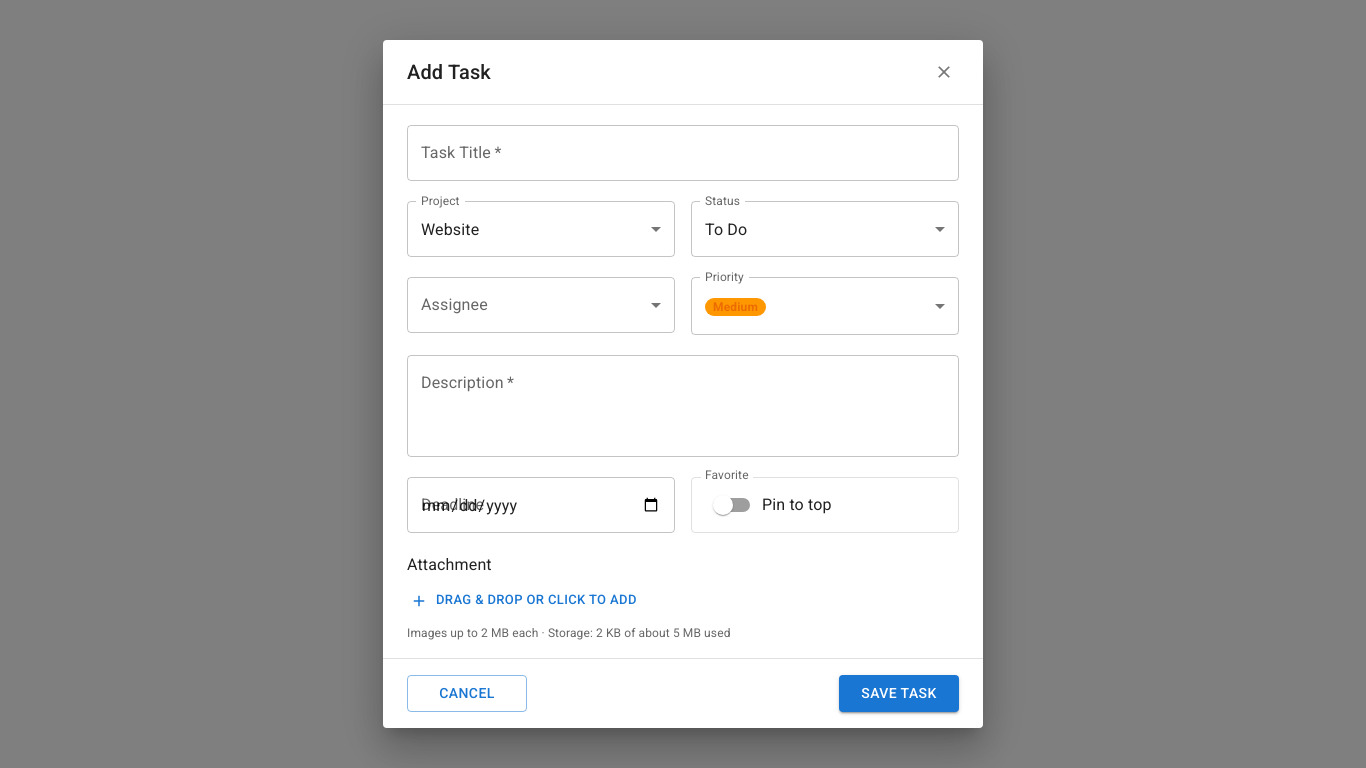
Test case: TaskFormDialog › shows required-field errors and saves nothing when submitted empty
Click the button with test id "task-form-dialog-submit" at (899, 693), box [839,675,959,712]
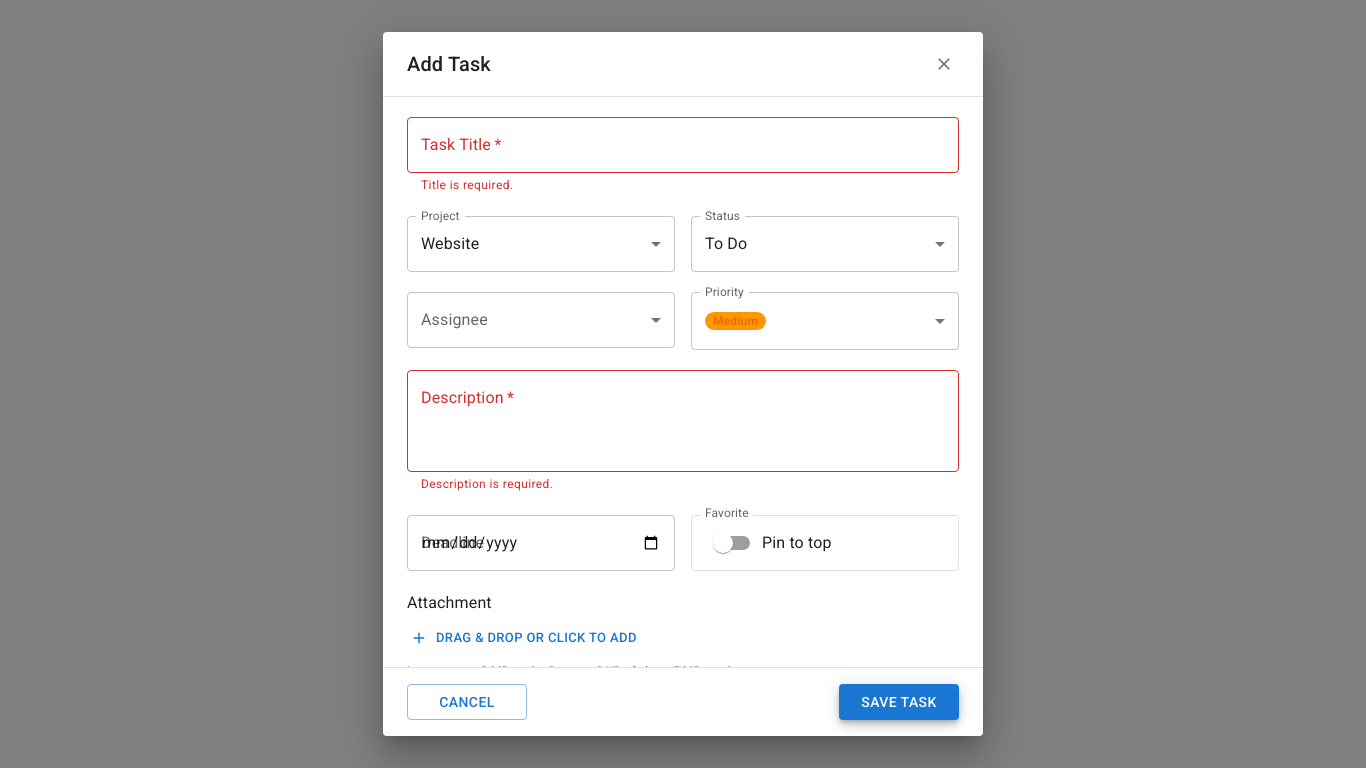
Result: the text "Title is required." is shown at [421,178,514,192]
Result: the text "Description is required." is shown at [421,477,553,491]
